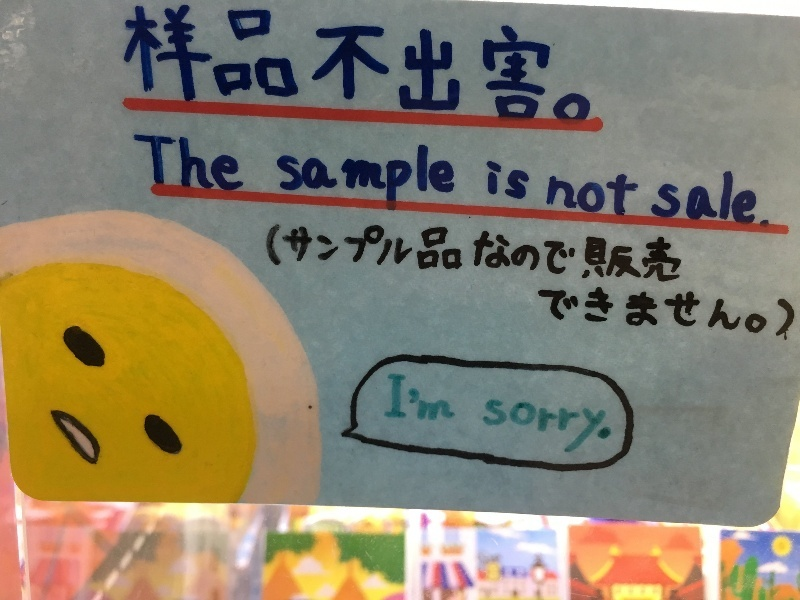text: (129, 3, 144, 124), (145, 3, 160, 124), (161, 3, 176, 124), (177, 3, 192, 124), (193, 3, 208, 124), (209, 3, 224, 124), (225, 3, 240, 124), (241, 3, 256, 124), (257, 3, 272, 124), (273, 3, 288, 124), (289, 3, 304, 124), (305, 3, 320, 124), (321, 3, 336, 124), (337, 3, 352, 124), (353, 3, 368, 124), (369, 3, 384, 124), (385, 3, 400, 124), (401, 3, 416, 124), (417, 3, 432, 124), (433, 3, 448, 124), (449, 3, 464, 124), (465, 3, 480, 124), (481, 3, 496, 124), (497, 3, 512, 124), (513, 3, 528, 124), (529, 3, 544, 124), (545, 3, 560, 124), (561, 3, 576, 124), (577, 3, 591, 124), (289, 143, 304, 214), (305, 143, 320, 214), (321, 143, 336, 214), (337, 143, 352, 214), (353, 143, 368, 214), (369, 143, 384, 214), (385, 143, 400, 214), (401, 143, 416, 214), (417, 143, 432, 214), (433, 143, 448, 214), (753, 171, 769, 229), (273, 224, 288, 284), (289, 224, 304, 284), (305, 224, 320, 284), (321, 224, 336, 284), (337, 224, 352, 284), (353, 224, 368, 284), (369, 224, 384, 284), (385, 224, 400, 284), (401, 224, 416, 284), (417, 224, 432, 284), (433, 224, 448, 284), (449, 224, 464, 284), (465, 224, 480, 284), (481, 224, 496, 284), (497, 224, 512, 284), (513, 224, 528, 284), (529, 224, 544, 284), (545, 224, 560, 284), (561, 224, 576, 284), (577, 224, 592, 284), (593, 224, 608, 284), (609, 224, 624, 284), (625, 224, 640, 284), (641, 224, 656, 284), (657, 224, 672, 284), (145, 134, 160, 192), (161, 134, 176, 192), (177, 134, 192, 192), (193, 134, 208, 192), (209, 134, 224, 192), (225, 134, 240, 192), (673, 171, 688, 229), (689, 171, 704, 229), (705, 171, 720, 229), (721, 171, 736, 229), (737, 171, 752, 229), (545, 285, 560, 342), (561, 285, 576, 342), (577, 285, 592, 342), (593, 285, 608, 342), (609, 285, 624, 342), (625, 285, 640, 342), (641, 285, 656, 342), (657, 285, 672, 342), (673, 285, 688, 342), (689, 285, 704, 342), (705, 285, 720, 342), (721, 285, 736, 342), (737, 285, 752, 342), (753, 285, 768, 342), (769, 285, 784, 342), (276, 143, 288, 214), (497, 399, 512, 455), (513, 399, 528, 455), (529, 399, 544, 455), (545, 399, 560, 455), (561, 399, 576, 455), (577, 399, 592, 455), (593, 399, 608, 455), (401, 374, 416, 421), (417, 374, 432, 421), (433, 374, 448, 421), (561, 174, 576, 217), (577, 174, 592, 217), (593, 174, 608, 217), (609, 174, 624, 217), (485, 399, 496, 455), (497, 160, 512, 201), (513, 160, 528, 201), (134, 134, 144, 192), (785, 285, 795, 342), (388, 374, 400, 421), (625, 174, 638, 217), (124, 3, 128, 124), (673, 224, 681, 284), (664, 171, 672, 229), (550, 174, 560, 217), (449, 143, 455, 214), (486, 160, 496, 201), (267, 224, 272, 284), (539, 285, 544, 342), (449, 374, 455, 421), (241, 134, 243, 192), (609, 399, 611, 455), (529, 160, 530, 201)
